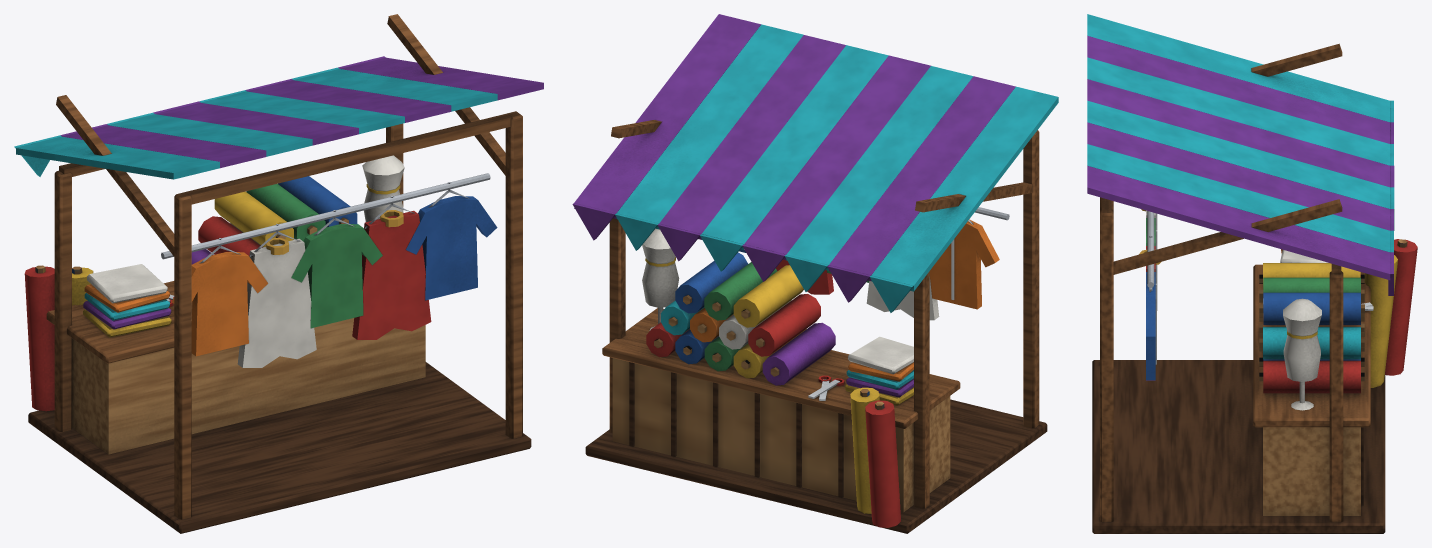
File: puesto_telas.fbx
The picture shows the model from 3 angles, left to right: view 1: azimuth 30°, elevation 25°; view 2: azimuth 150°, elevation 25°; view 3: azimuth 270°, elevation 25°; orthographic projection. The views are drawn at different scales.
Visible parts, largest first — view 1: puesto_telas; view 2: puesto_telas; view 3: puesto_telas.
Part boxes in pixels (x1=…): puesto_telas: x1=14, y1=14, x2=543, y2=533; puesto_telas: x1=572, y1=14, x2=1058, y2=533; puesto_telas: x1=1087, y1=14, x2=1417, y2=533.
Size of the model in its own units: 4.2 by 3.97 by 3.38.
Materials: 1 (1 with a texture image).
